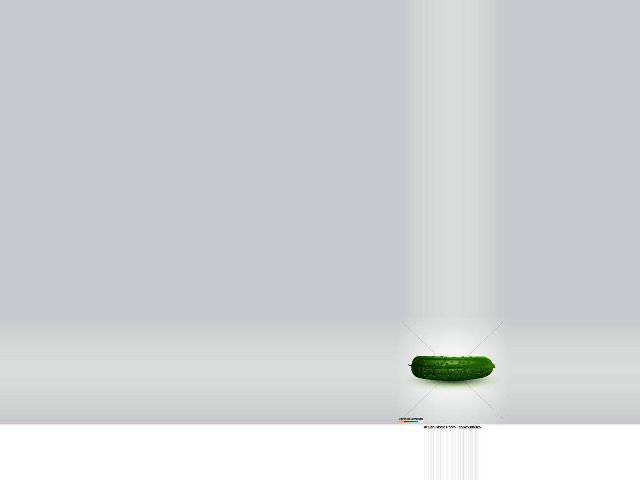cucumber: (408, 355, 496, 380)
